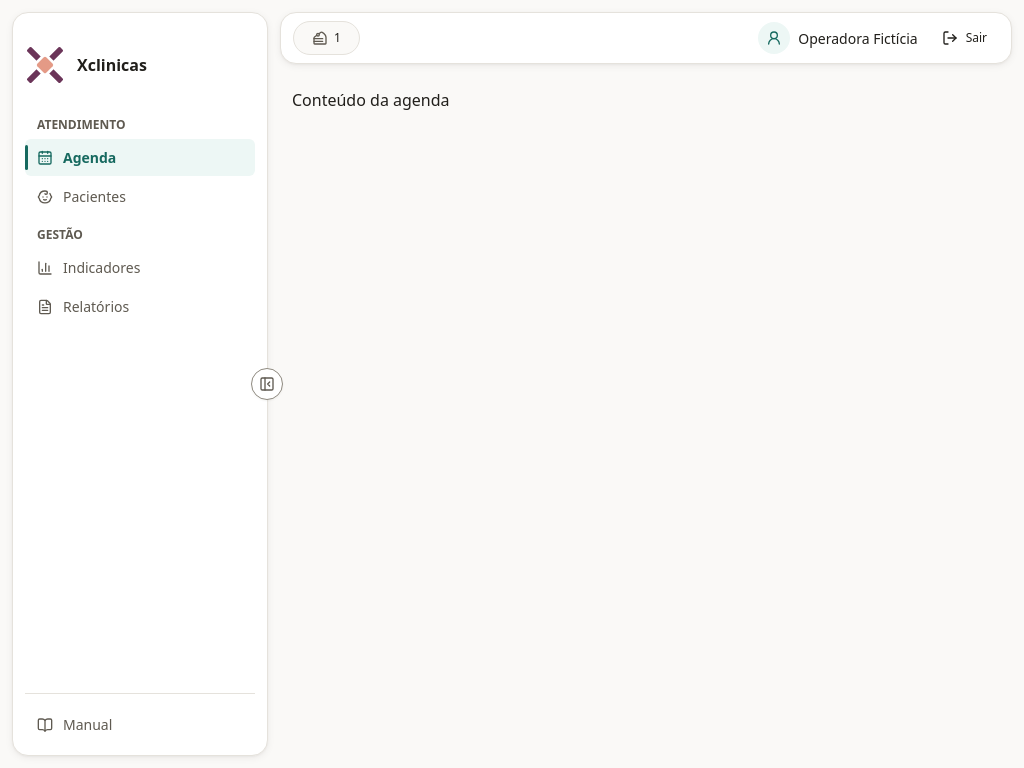
AppShell — painéis de notificação › deve fechar o painel ao navegar por um item
Click the button named "Aniversariantes" at (326, 38), box [304, 26, 349, 50]
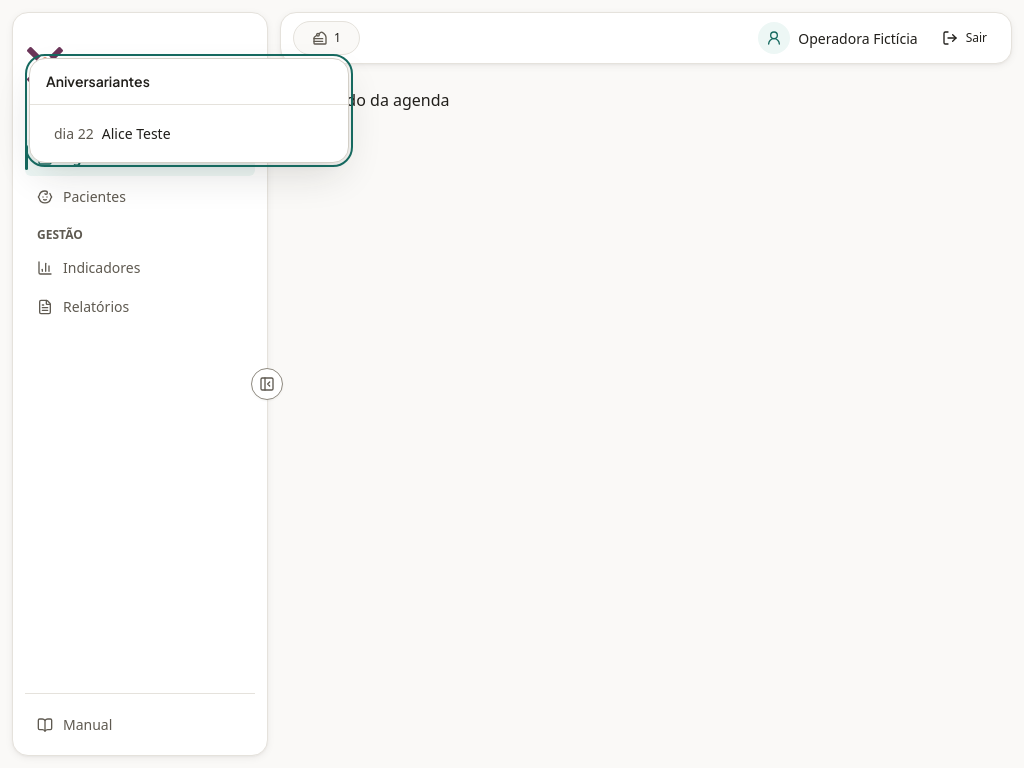
Click the link "dia 22 Alice Teste" at (112, 134), box [54, 124, 170, 143]
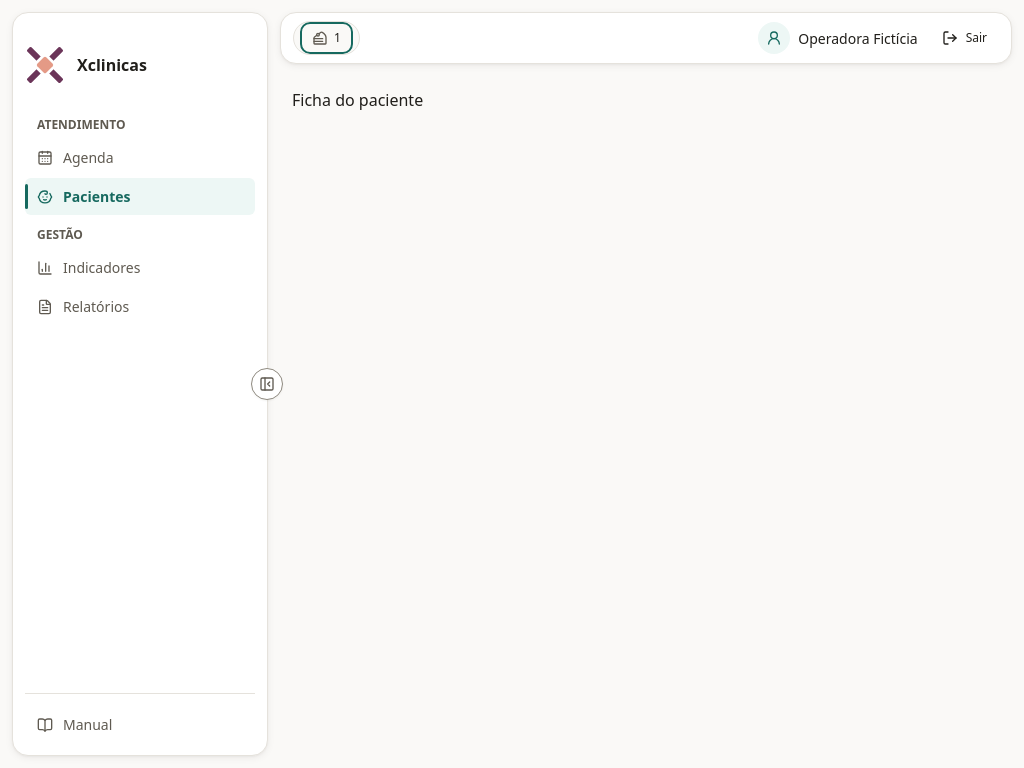
Expected: the element showing "Ficha do paciente" is shown, [292, 89, 423, 111]
